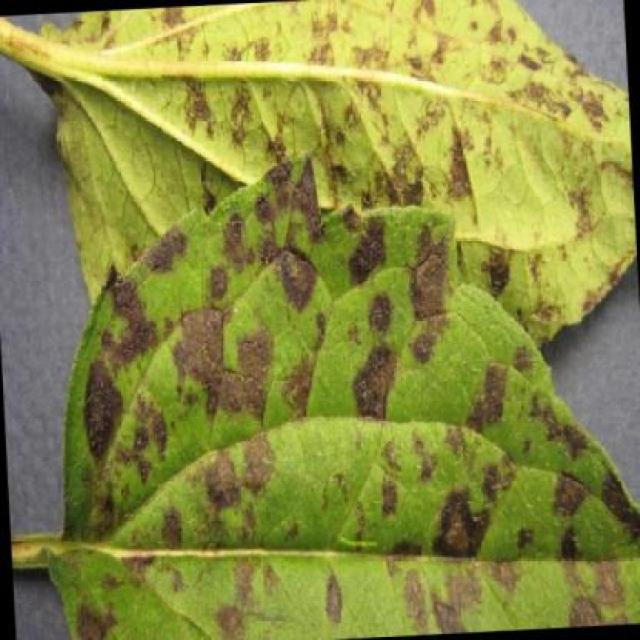Septoria leaf spot: (16, 172, 640, 639), (73, 1, 636, 226)
